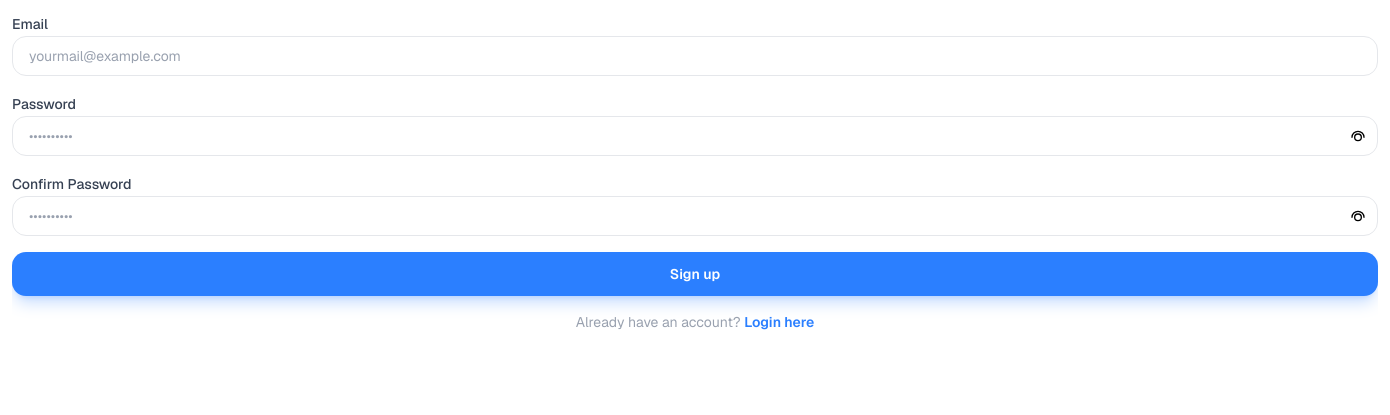
Test: RegisterForm — Unit Tests › TC-REG-08: displays server error message when registration fails
Type "dup@test.com" into the field labelled "Email".
click(695, 56); type("dup@test.com")  # box [12, 36, 1378, 76]
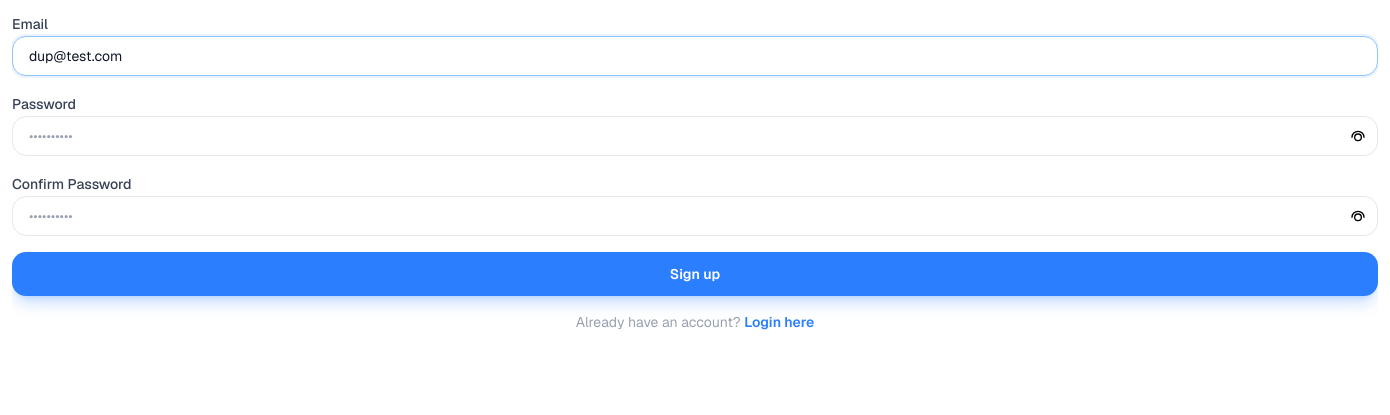
Type "Password1!" into the password field labelled "Password".
click(695, 136); type("Password1!")  # box [12, 116, 1378, 156]
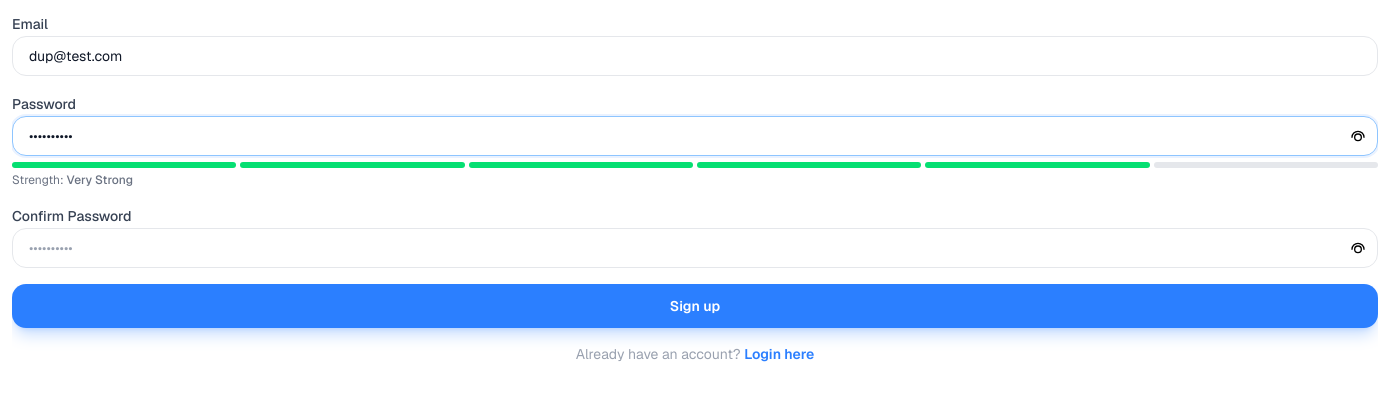
Type "Password1!" into the password field labelled "Confirm Password".
click(695, 248); type("Password1!")  # box [12, 228, 1378, 268]
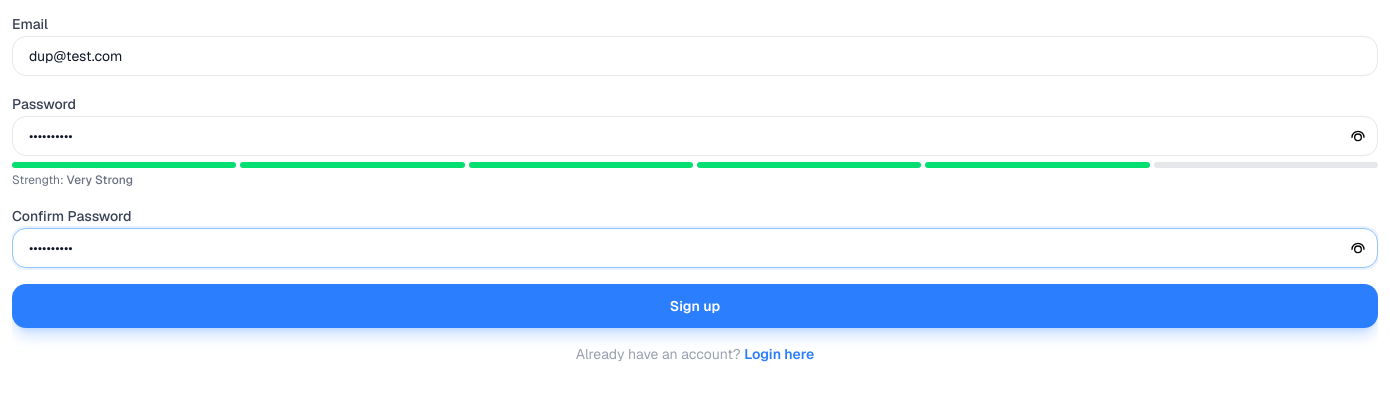
Click the button "Sign up".
click(695, 306)  # box [12, 284, 1378, 328]
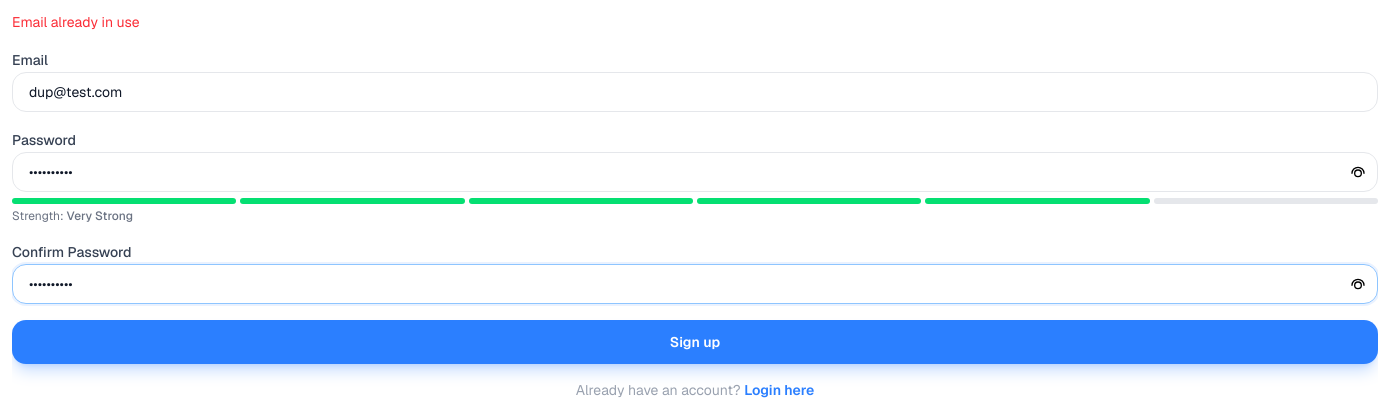
Check: the text "Email already in use" is shown, box [12, 13, 140, 31]
